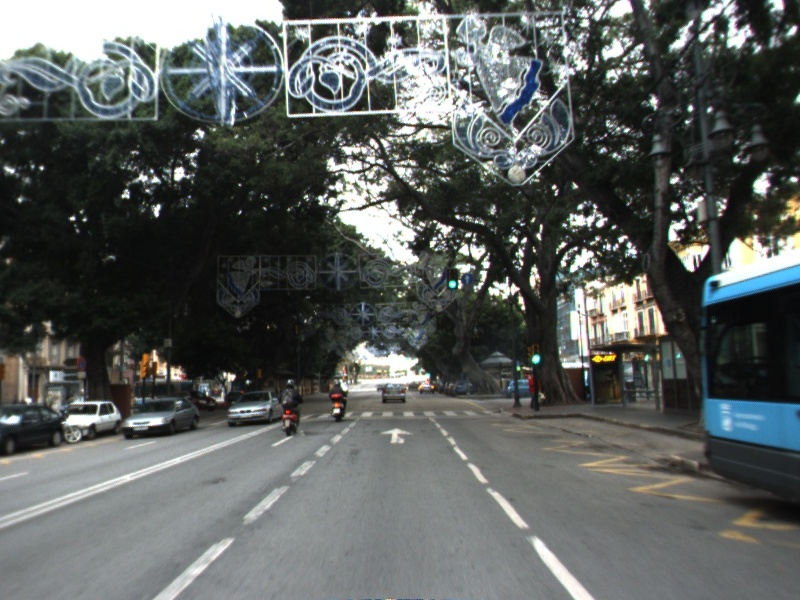STRAIGHT: (268, 428, 308, 449), (378, 426, 416, 446)
